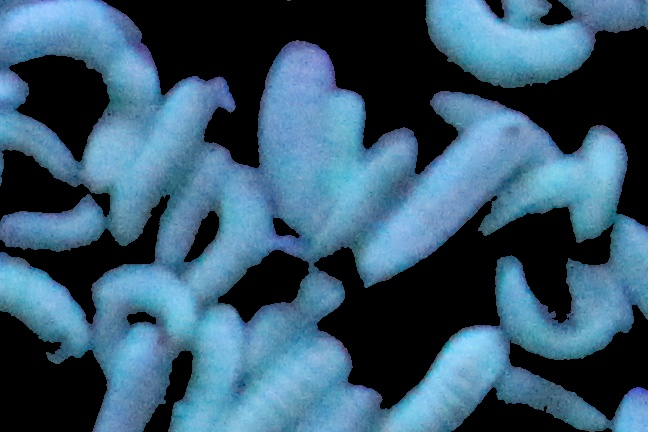larvae: (376, 112, 522, 281), (104, 76, 225, 254), (254, 40, 340, 249), (414, 1, 596, 94), (384, 304, 511, 432), (1, 1, 174, 77), (231, 327, 351, 432), (1, 234, 96, 363), (340, 112, 427, 245), (428, 86, 562, 159), (203, 169, 278, 293), (86, 258, 195, 341), (97, 327, 177, 432), (157, 148, 227, 265), (188, 303, 242, 432), (570, 125, 625, 251), (1, 104, 78, 181), (4, 196, 102, 254)
